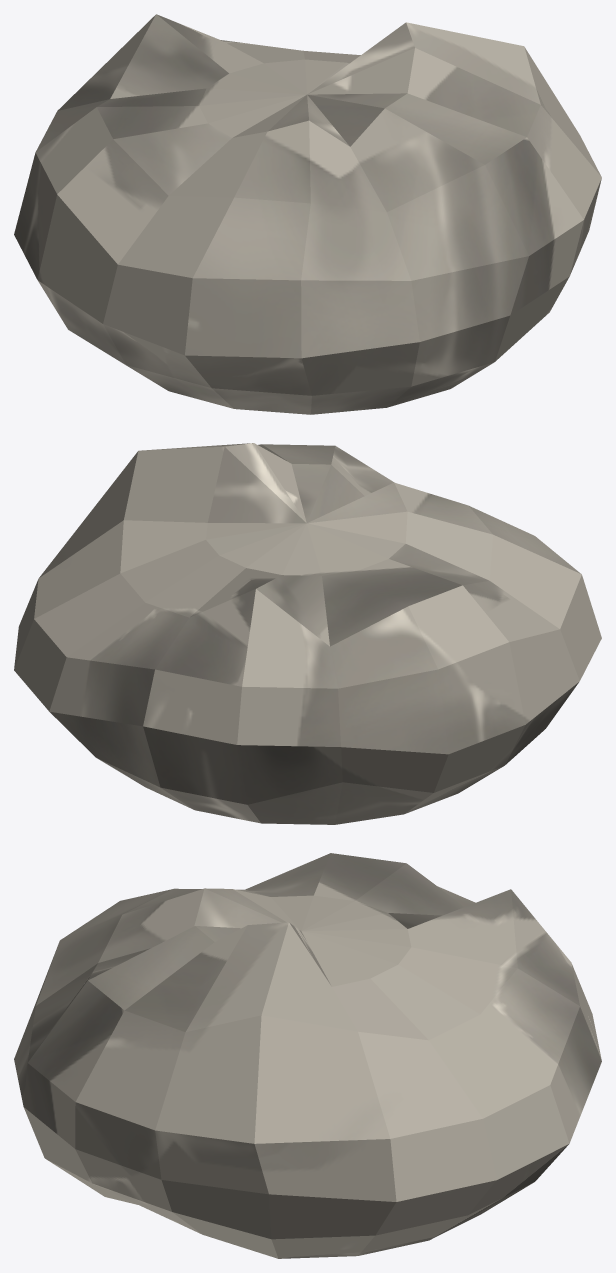
File: crystal_03.glb
3 views of the same model, one above another, from view 1: azimuth 30°, elevation 25°; view 2: azimuth 150°, elevation 25°; view 3: azimuth 270°, elevation 25° (orthographic). The views are drawn at different scales.
Parts seen in each view (by area): view 1: crystal_03; view 2: crystal_03; view 3: crystal_03.
Part boxes in pixels (x1,y1,x2,y2): crystal_03: (14, 14, 601, 414); crystal_03: (14, 443, 601, 824); crystal_03: (14, 853, 601, 1258).
Bounding box in the file's own units: 1.9 × 1.13 × 1.85.
1 material, 1 textured.
